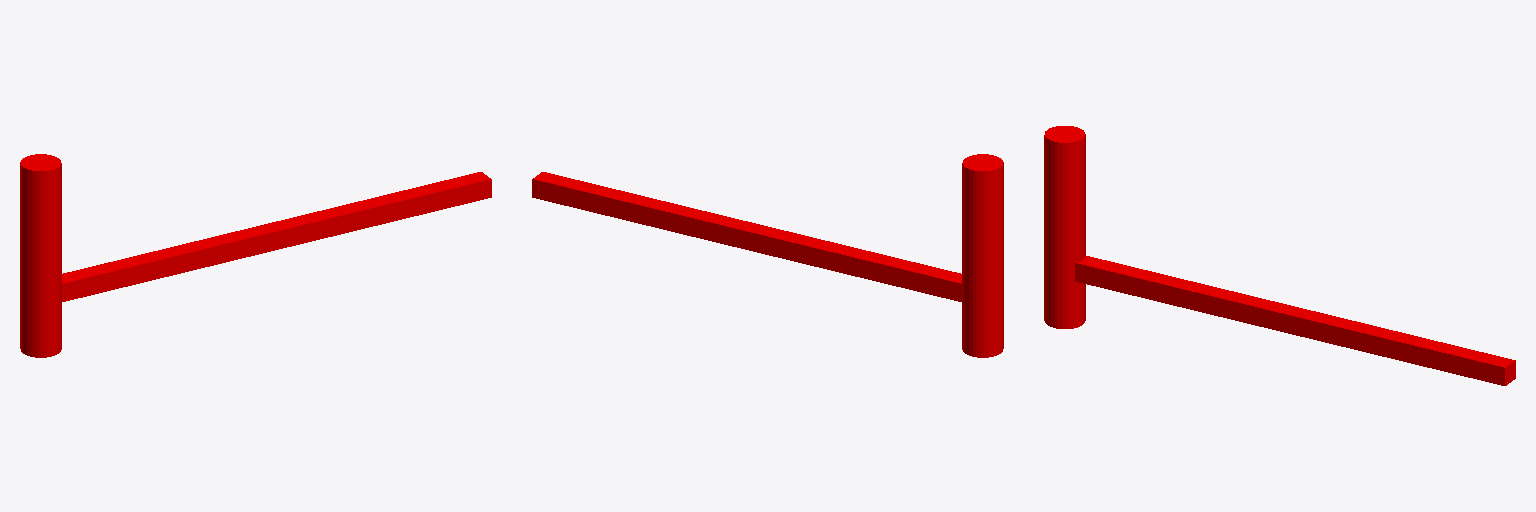
URDF robot description (barrera):
<?xml version="1.0"?>

<robot name="barrera">

<!-- Definición de Material -->
    <material name="red">
        <color rgba="1.0 0.0 0.0 1.0"/>
    </material>

<!-- Definicion de links -->
    <link name="base_link">

        <visual>
            <origin xyz="0.0 0.0 0.5" rpy="0.0 0.0 0.0"/>
            <geometry>
                <cylinder radius="0.1" length="1.0"/>
            </geometry>
            <material name="red"/>
            
        </visual>

        <collision>
            <origin xyz="0.0 0.0 0.5" rpy="0.0 0.0 0.0"/>
            <geometry>
                <cylinder radius="0.1" length="1.0"/>
            </geometry>
            
        </collision>
    </link>

    <link name="barrier_link">
        <inertial>
            <origin xyz="1.25 0.0 0.15" rpy="0.0 0.0 0.0"/>
            <mass value="5.0"/>
            <inertia ixx="10.41" ixy="0.0" ixz="0.0" iyy="0.0" iyz="0.0" izz="10.41"/>
        </inertial>

        <visual>
            <origin xyz="1.25 0.0 0.15" rpy="0.0 0.0 0.0"/>
            <geometry>
                <box size="2.5 0.1 0.1"/>
            </geometry>
            <material name="red"/>
        </visual>

        <collision>
            <origin xyz="1.25 0.0 0.15" rpy="0.0 0.0 0.0"/>
            <geometry>
                <box size="2.5 0.1 0.1"/>
            </geometry>
            
        </collision>
    </link>

<!-- Definicion Joints -->
    <joint name="barrier_joint" type="continuous">
        <origin xyz="0.0 0.0 0.15" rpy="0.0 0.0 0.0"/>
        <parent link="base_link"/>
        <child link="barrier_link"/>

        <axis xyz="0 0 1"/>

    </joint>
    
</robot>

--- Facts derived from the render (not from the file) ---
Views: 3 orthographic renders of the robot side by side, from view 1: azimuth 30°, elevation 25°; view 2: azimuth 150°, elevation 25°; view 3: azimuth 330°, elevation 25°.
Model barrera with 2 links and 1 joints (1 continuous), rooted at base_link, posed all joints at 0.
Links seen in each view (by area): view 1: barrier_link, base_link; view 2: barrier_link, base_link; view 3: barrier_link, base_link.
Link boxes in pixels (x1,y1,x2,y2): barrier_link: (62,172,491,301); base_link: (20,154,61,357); barrier_link: (532,172,961,301); base_link: (962,154,1003,357); barrier_link: (1075,255,1515,385); base_link: (1044,126,1085,328).
Size in the robot's own frame: 2.6 by 0.2 by 1 metres.
Geometry: primitives only (box / cylinder / sphere), no mesh files.
